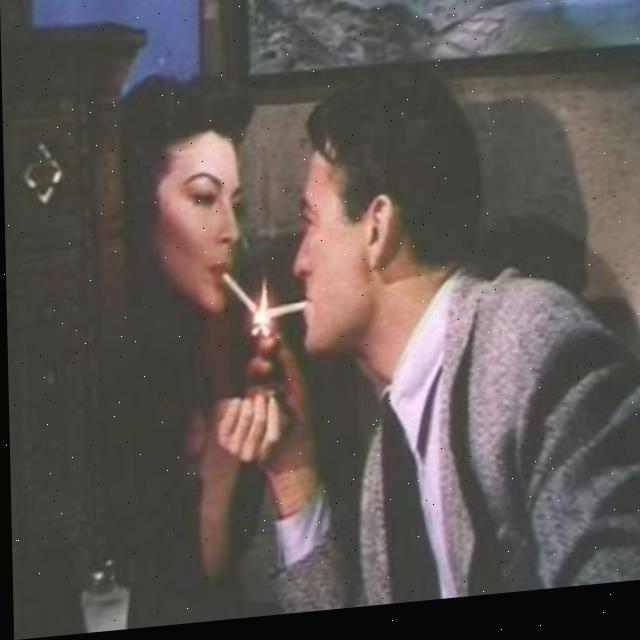cigarette: (220, 271, 259, 327), (260, 302, 312, 333)
